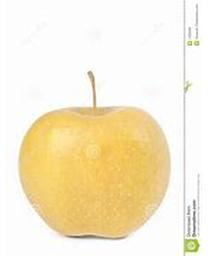apple: (19, 71, 172, 239)
